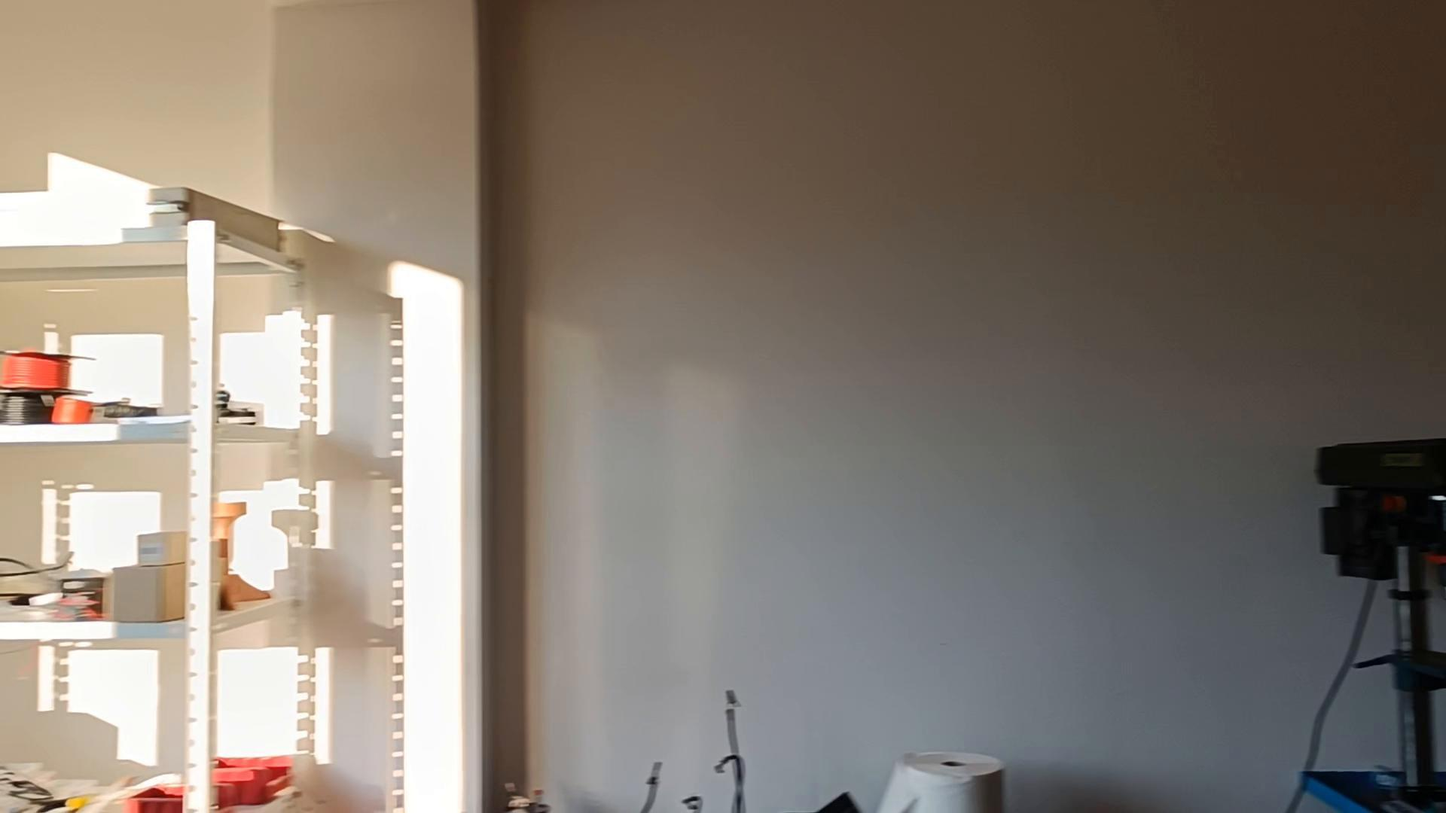wall: (523, 2, 1445, 812), (275, 0, 522, 812), (5, 9, 272, 252)
